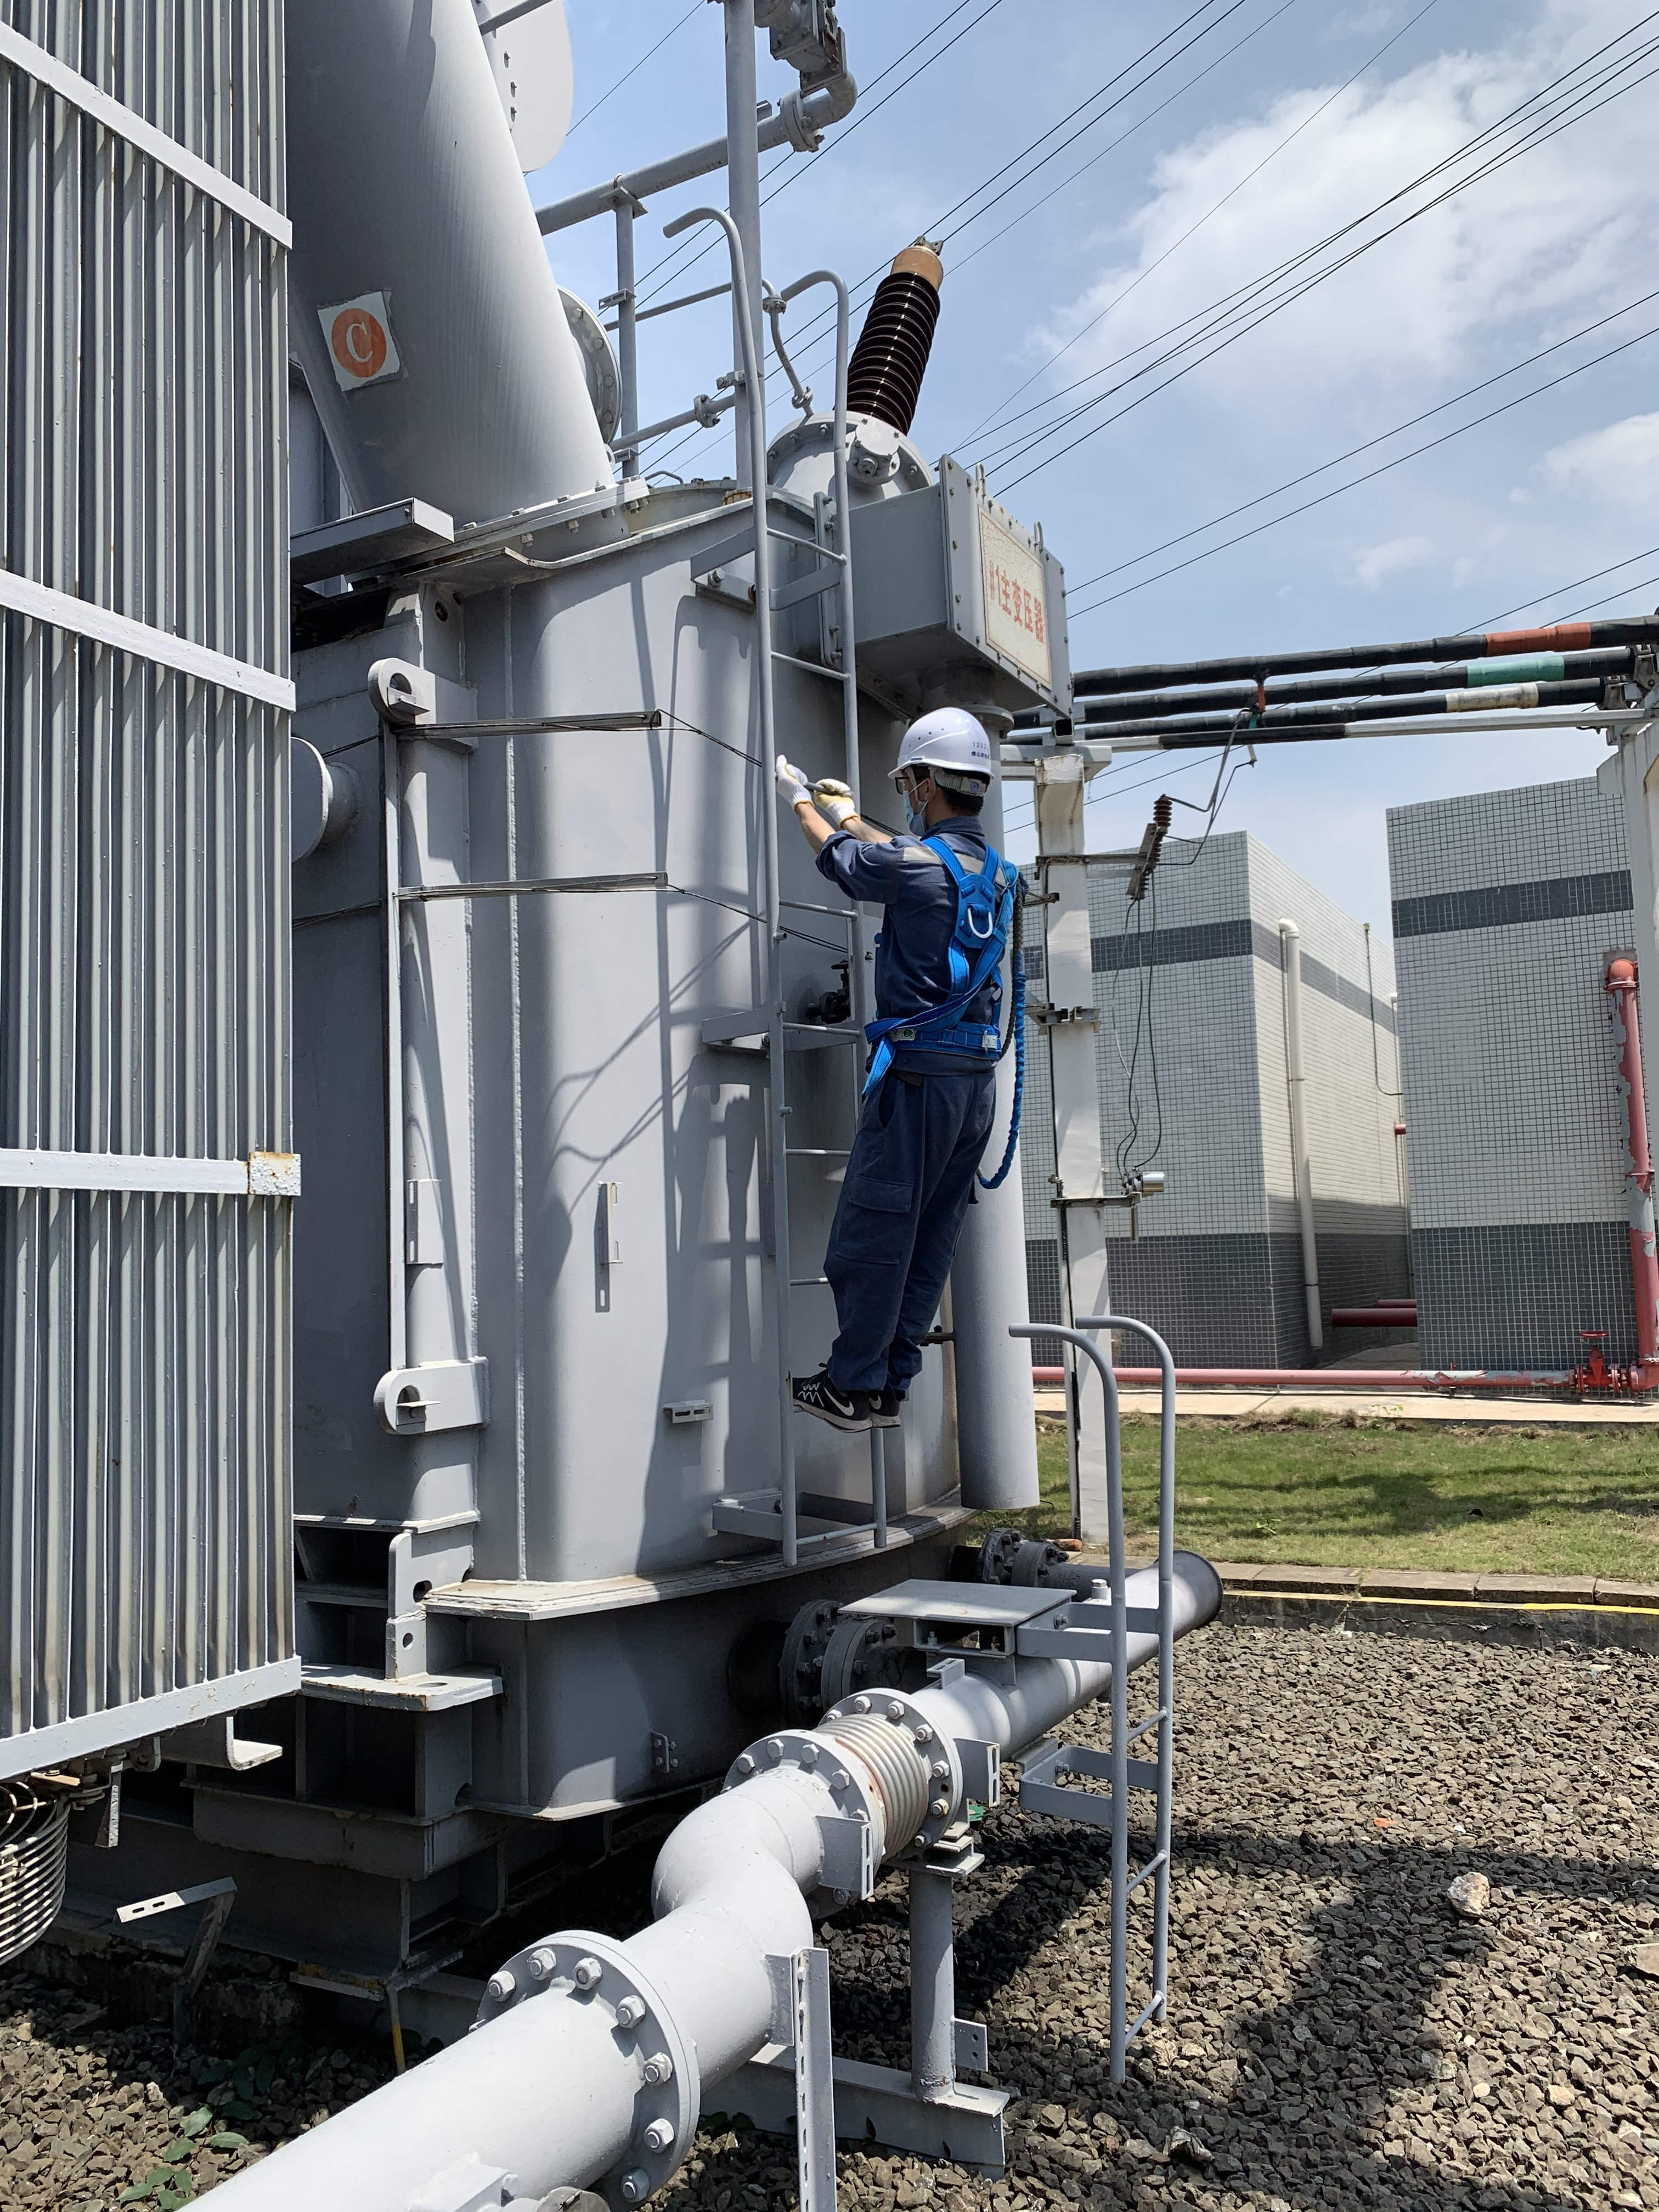downsuit: (824, 1061, 999, 1390)
upsuit: (817, 833, 1028, 1054)
wrongtop: (782, 763, 892, 862)
